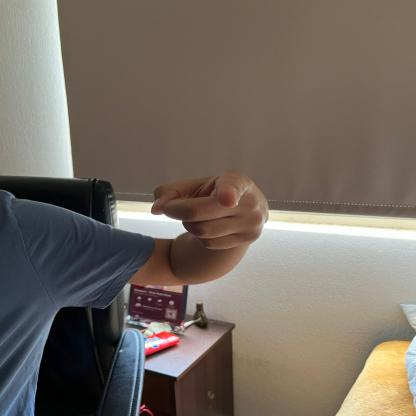X: (149, 168, 273, 254)
